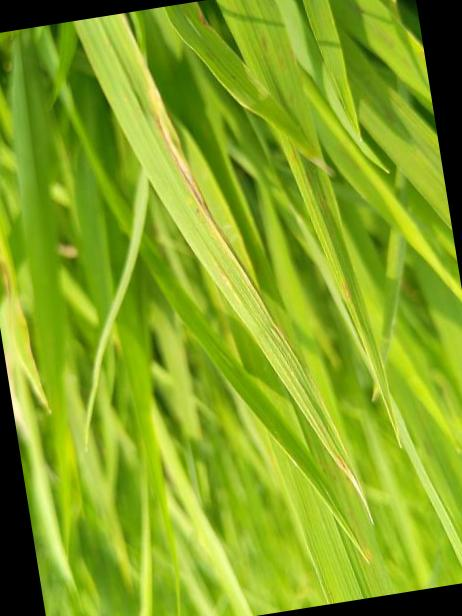Leaf Blight: (71, 13, 373, 520)
